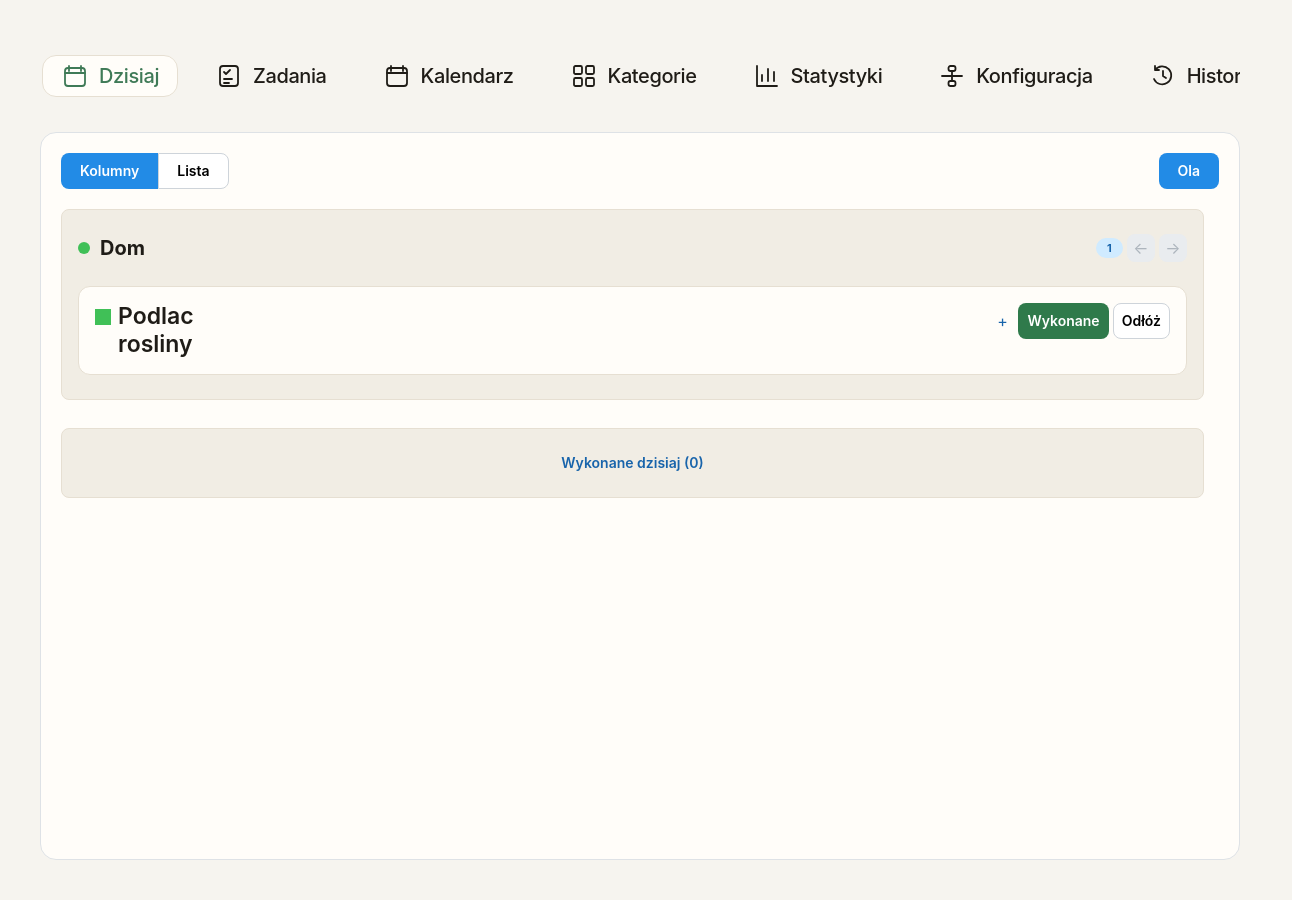
Scenario: App › renders a compact active task row and expands inline details
The image size is (1292, 900).
Check: the text "Podlac rosliny" is shown, box top-left (118, 302), bottom-right (194, 358)
Check: the text "Jeszcze nie wykonano" is not shown
Click the button named "Pokaz szczegoly: Podlac rosliny" at [1002, 321], box top-left (990, 309), bottom-right (1014, 333)
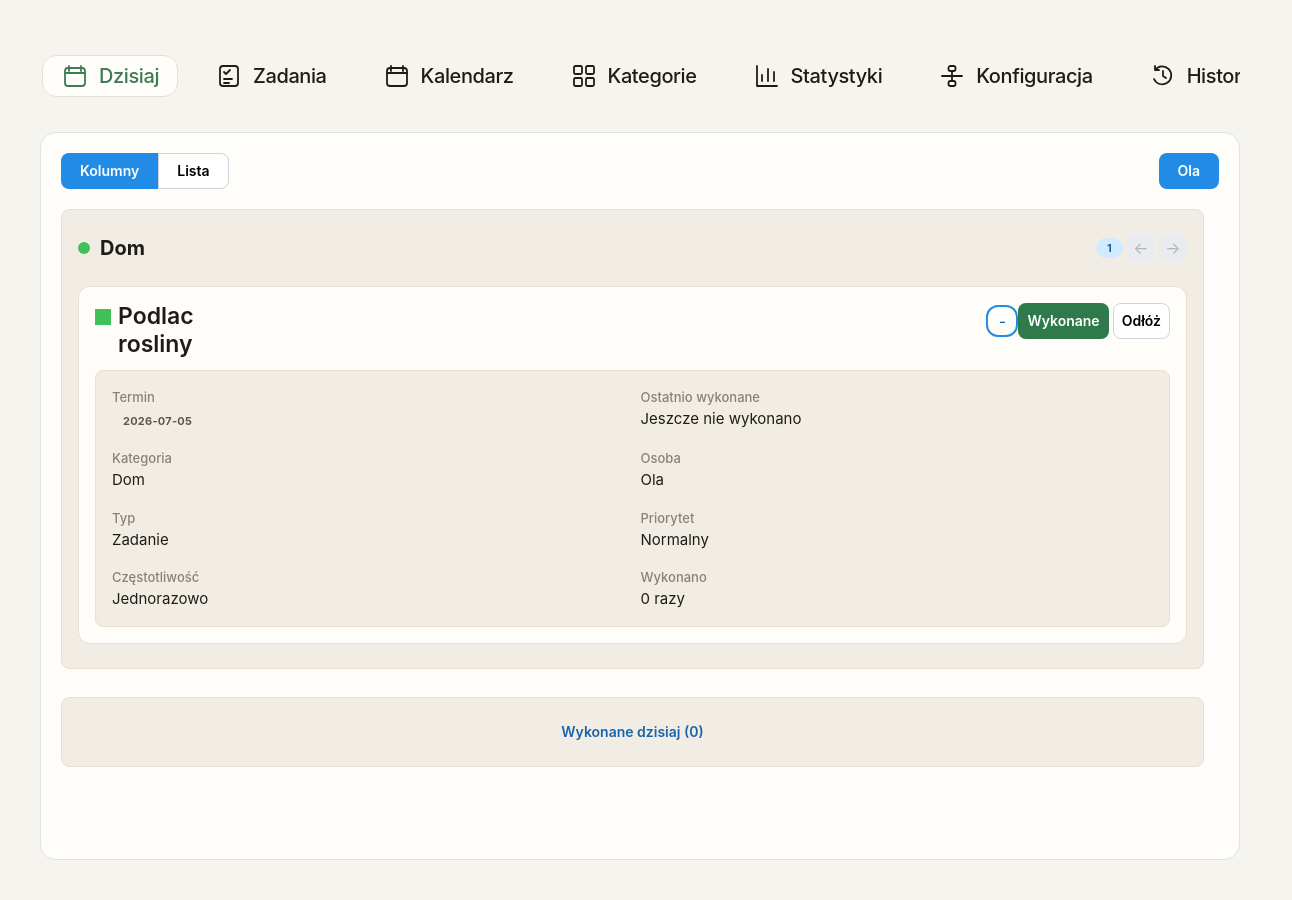
Check: the text "Jeszcze nie wykonano" is shown, box top-left (640, 409), bottom-right (801, 428)
Check: the text "Kategoria" is shown, box top-left (112, 450), bottom-right (172, 466)
Check: the text "Dom" is shown, box top-left (112, 470), bottom-right (145, 489)
